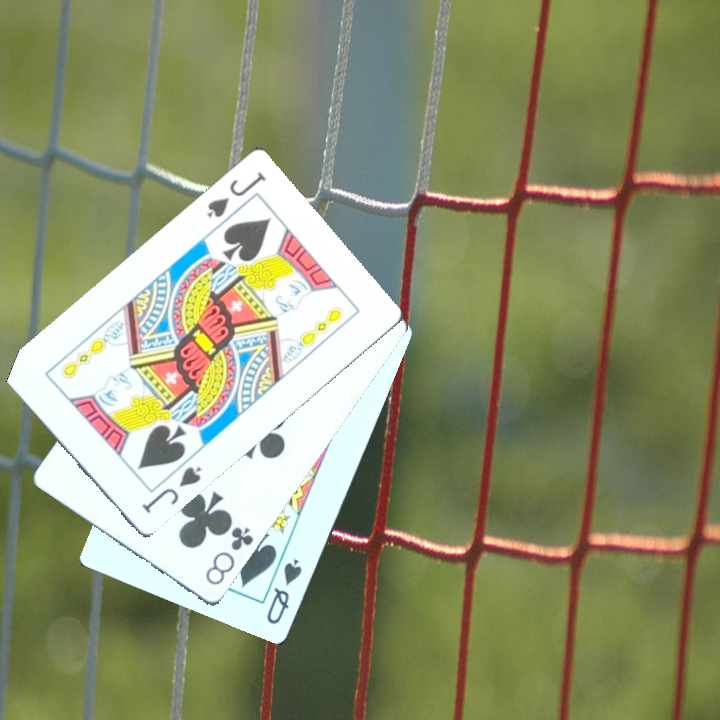8c: (201, 522, 256, 588)
Js: (137, 453, 204, 516), (202, 167, 269, 221)
Qs: (262, 555, 305, 627)
